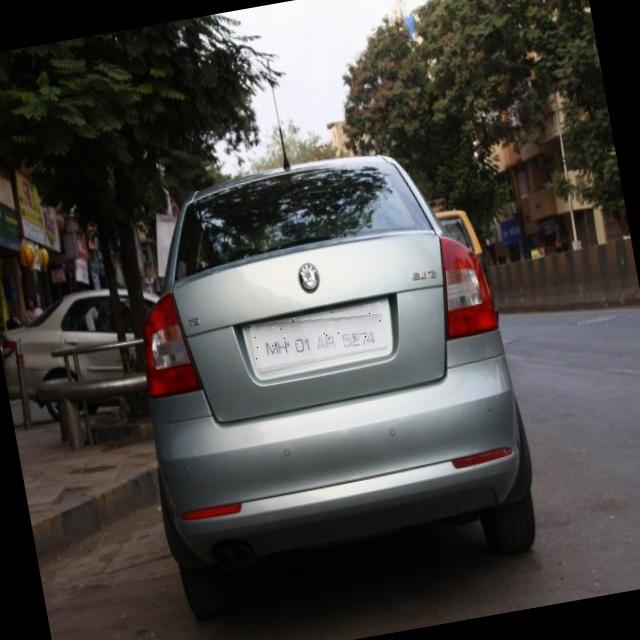Plate: (250, 303, 389, 369)
